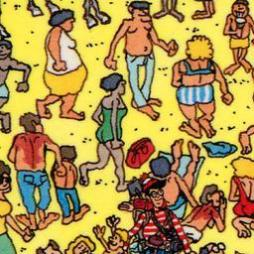wally: (126, 174, 190, 254)
